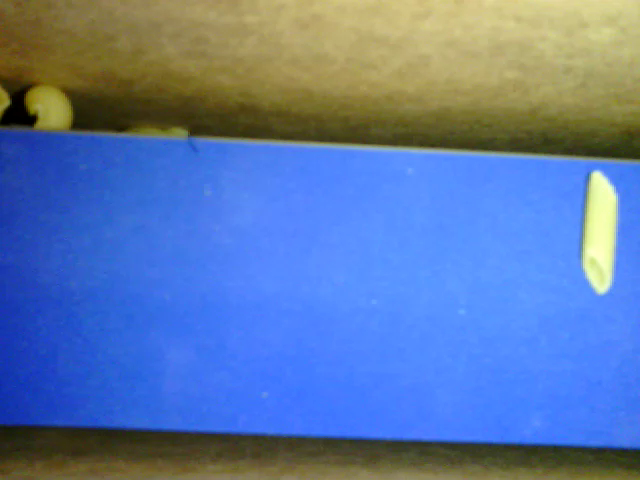penne: (582, 167, 618, 295)
shell: (24, 81, 77, 131)
